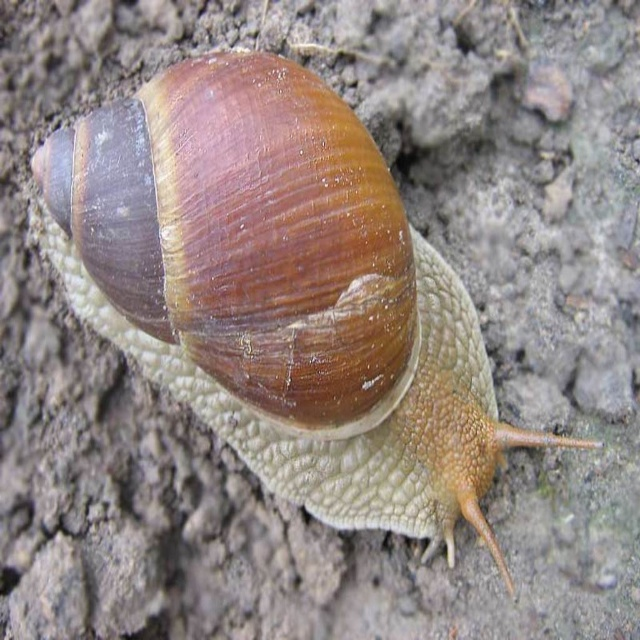Snail: (31, 52, 606, 609)
